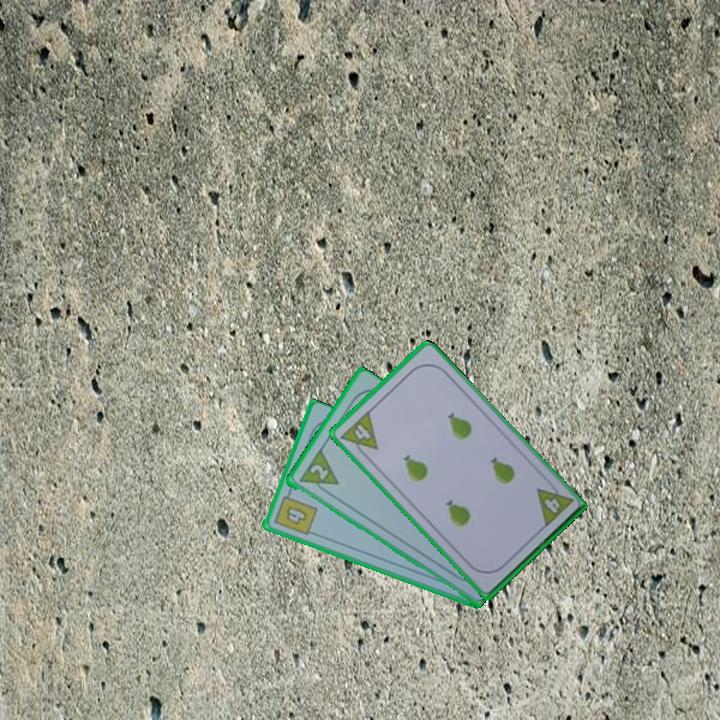2p: (306, 461, 331, 483)
4b: (270, 487, 319, 538)
4p: (337, 407, 381, 462), (533, 476, 575, 530)
